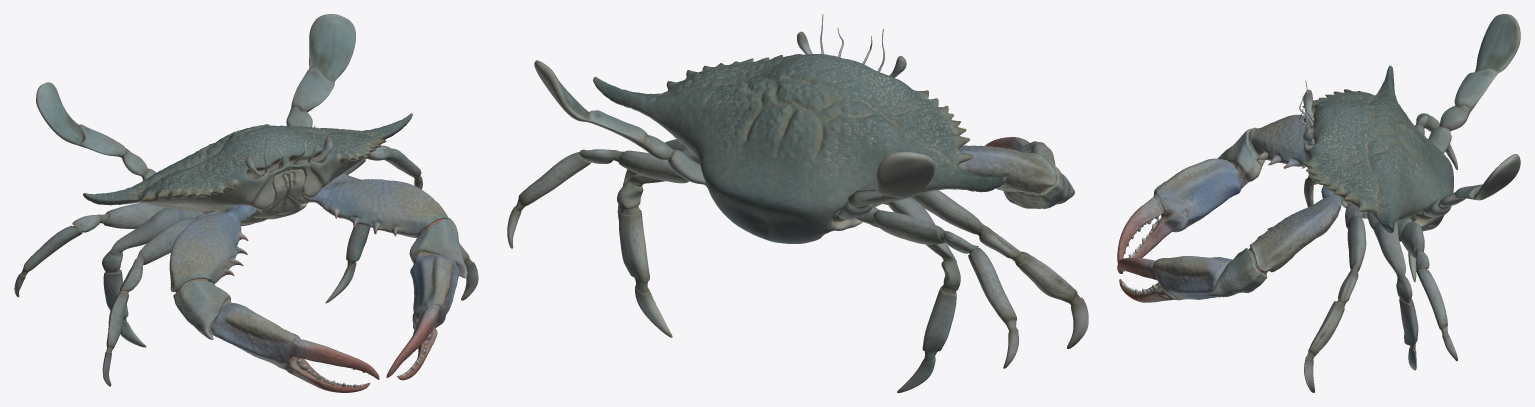
File: blue_crab.glb
The picture shows the model from 3 angles, left to right: view 1: azimuth 30°, elevation 25°; view 2: azimuth 150°, elevation 25°; view 3: azimuth 270°, elevation 25°; orthographic projection. The views are drawn at different scales.
Parts seen in each view (by area): view 1: Object_2, Object_4, Object_5, Object_3, Object_6; view 2: Object_3, Object_2, Object_4, Object_5, Object_6; view 3: Object_2, Object_4, Object_3, Object_5, Object_6.
Part boxes in pixels (x1,y1,x2,y2): Object_2: (14, 14, 478, 392); Object_4: (36, 19, 472, 392); Object_5: (16, 37, 478, 392); Object_3: (30, 113, 464, 384); Object_6: (14, 14, 467, 388); Object_3: (520, 31, 1088, 392); Object_2: (507, 14, 1088, 368); Object_4: (512, 28, 1073, 386); Object_5: (508, 16, 1086, 392); Object_6: (510, 14, 1088, 390); Object_2: (1117, 68, 1519, 392); Object_4: (1117, 14, 1520, 356); Object_3: (1121, 49, 1506, 370); Object_5: (1117, 14, 1519, 379); Object_6: (1118, 20, 1518, 390).
Bounding box in the file's own units: 2.01 × 1.14 × 1.73.
